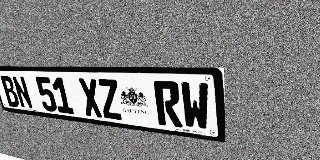1: (50, 77, 74, 114)
5: (35, 77, 58, 112)
B: (0, 75, 21, 108)
N: (11, 76, 34, 109)
R: (153, 81, 183, 128)
W: (180, 82, 210, 131)
X: (78, 78, 103, 118)
Z: (96, 79, 123, 120)
